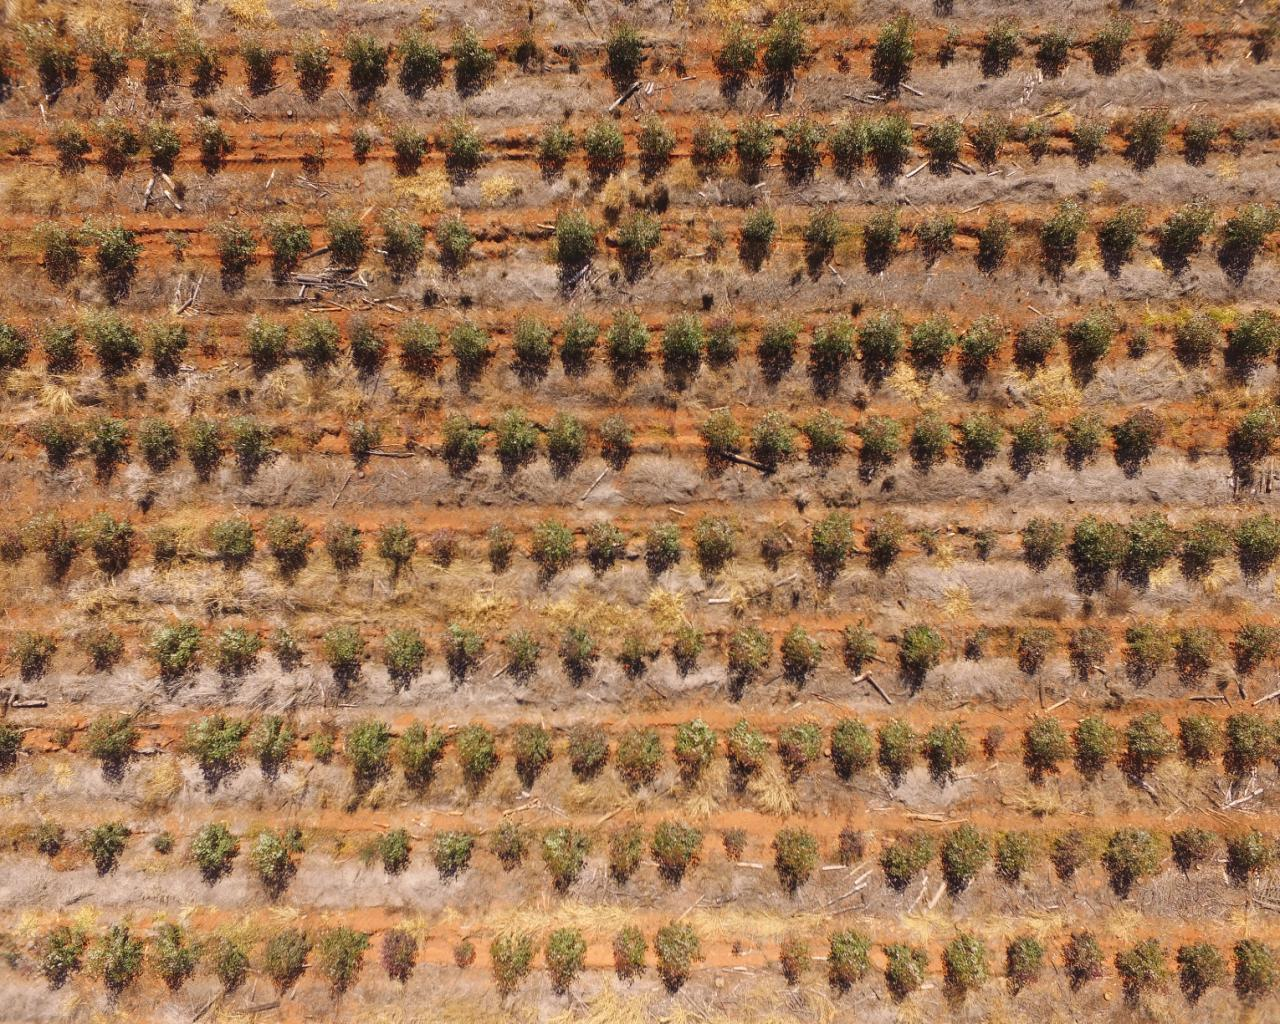Tree: (1118, 516, 1178, 591), (1219, 202, 1273, 283), (525, 108, 580, 181), (1112, 406, 1164, 481), (1227, 403, 1275, 484), (1163, 193, 1207, 275), (583, 114, 626, 193), (778, 112, 820, 192), (1008, 409, 1052, 484), (877, 829, 933, 886), (1181, 519, 1231, 583), (553, 209, 590, 293), (618, 219, 665, 286), (1237, 511, 1279, 585), (633, 109, 673, 186), (540, 930, 588, 994), (923, 113, 968, 181), (656, 926, 700, 993), (1176, 623, 1220, 688), (442, 121, 489, 183), (829, 109, 866, 185), (533, 520, 576, 587), (1101, 830, 1144, 897), (260, 926, 305, 990), (767, 11, 807, 84), (965, 113, 1014, 172), (1064, 408, 1104, 478), (942, 828, 992, 885), (802, 412, 845, 478), (317, 631, 374, 679), (859, 417, 901, 483), (651, 819, 698, 878), (942, 933, 985, 997), (740, 109, 774, 187), (874, 111, 910, 184), (181, 716, 234, 766), (458, 41, 503, 99), (345, 719, 392, 774), (690, 109, 730, 172), (828, 931, 870, 992), (540, 827, 585, 884), (960, 411, 1000, 475), (91, 321, 140, 373), (263, 522, 312, 575), (1134, 718, 1172, 784), (400, 41, 445, 97), (879, 721, 921, 782), (1227, 714, 1269, 774), (210, 519, 256, 574), (548, 419, 586, 483), (326, 931, 363, 998), (874, 14, 908, 84), (211, 222, 261, 270), (584, 523, 631, 575), (389, 123, 430, 181), (229, 425, 275, 476), (98, 931, 140, 986), (39, 931, 84, 982), (90, 720, 142, 764), (38, 224, 77, 281), (908, 411, 948, 468), (730, 631, 768, 692), (344, 43, 386, 97), (511, 315, 550, 373), (1119, 939, 1158, 998), (665, 319, 702, 378), (717, 18, 751, 83), (1126, 110, 1165, 167), (813, 319, 847, 382), (1069, 117, 1111, 169), (382, 212, 419, 272), (695, 517, 731, 577), (1233, 622, 1273, 676), (1128, 619, 1160, 686), (1068, 624, 1109, 676), (155, 930, 192, 986), (296, 38, 331, 97), (258, 720, 298, 773), (606, 24, 639, 87), (779, 632, 820, 683), (829, 724, 869, 775), (1028, 721, 1069, 772), (771, 833, 812, 884), (1013, 318, 1050, 373), (328, 212, 360, 276), (1181, 718, 1228, 762), (491, 938, 530, 992), (97, 515, 132, 575), (385, 634, 425, 684), (1091, 18, 1127, 73), (1183, 945, 1221, 997), (73, 634, 132, 669), (296, 317, 338, 365), (883, 940, 921, 994), (1237, 939, 1273, 995), (862, 317, 893, 379), (997, 825, 1030, 884), (96, 225, 136, 274), (645, 522, 681, 576), (728, 727, 763, 784), (984, 11, 1015, 75), (496, 411, 527, 474), (445, 415, 478, 474), (401, 311, 436, 367), (612, 928, 647, 983), (1005, 934, 1039, 991), (190, 423, 224, 479), (1016, 630, 1052, 680), (401, 727, 438, 777), (196, 827, 234, 875), (212, 942, 250, 991), (383, 927, 417, 980), (564, 312, 594, 373), (1072, 319, 1099, 383), (10, 630, 47, 678), (1077, 525, 1107, 584), (512, 729, 551, 774), (1080, 720, 1116, 768), (610, 829, 646, 877), (915, 318, 946, 373), (41, 326, 76, 373), (703, 415, 735, 468), (867, 518, 905, 562), (1235, 321, 1265, 375), (927, 727, 962, 773), (435, 223, 467, 273), (615, 318, 641, 382), (1055, 830, 1088, 880), (1100, 222, 1127, 281), (88, 822, 125, 865), (378, 523, 412, 572), (774, 937, 811, 981), (967, 319, 992, 382), (600, 419, 632, 468), (1045, 15, 1072, 73), (763, 320, 792, 374), (250, 321, 284, 367), (144, 421, 176, 471), (452, 323, 485, 371), (150, 326, 183, 374), (326, 525, 358, 573), (1024, 521, 1056, 569), (89, 419, 119, 470), (622, 730, 655, 776), (195, 122, 233, 163), (1049, 218, 1074, 278), (242, 47, 275, 93), (563, 631, 596, 677), (435, 832, 469, 875), (187, 50, 220, 94), (869, 205, 894, 263), (445, 631, 478, 676), (463, 734, 498, 774), (816, 516, 847, 562), (156, 631, 193, 668), (508, 633, 539, 677), (152, 527, 190, 562), (373, 834, 414, 867), (673, 626, 702, 672), (44, 522, 69, 576), (224, 632, 259, 670), (575, 727, 604, 772), (1025, 114, 1051, 164), (759, 417, 785, 467), (1182, 315, 1209, 363), (682, 731, 713, 774), (1234, 844, 1266, 884), (1187, 114, 1216, 158), (744, 208, 769, 259), (255, 835, 282, 882), (43, 49, 73, 91), (840, 630, 874, 668), (487, 526, 511, 577), (274, 222, 307, 258), (916, 213, 946, 255), (1072, 935, 1100, 978), (909, 626, 931, 680), (145, 129, 178, 165), (712, 315, 737, 362), (349, 419, 372, 470), (1174, 831, 1209, 864), (41, 423, 69, 464), (618, 639, 647, 677), (353, 323, 381, 362), (812, 205, 829, 270), (145, 51, 173, 89), (1153, 17, 1173, 67), (759, 534, 787, 571), (783, 727, 808, 768), (101, 125, 132, 159), (89, 54, 122, 85), (57, 126, 86, 162), (493, 827, 521, 861), (350, 125, 375, 164), (1198, 31, 1223, 70), (838, 829, 863, 864), (1, 536, 30, 566), (0, 727, 23, 764), (432, 537, 457, 569), (724, 828, 749, 859), (514, 38, 543, 64), (984, 721, 1005, 758), (1250, 25, 1273, 57), (962, 626, 983, 661), (988, 217, 1002, 265), (165, 230, 189, 256), (276, 636, 300, 662), (451, 946, 478, 970), (312, 738, 334, 766), (152, 832, 173, 859), (945, 26, 957, 66), (49, 727, 74, 746), (41, 832, 59, 858), (1130, 331, 1146, 357), (708, 223, 725, 247), (979, 535, 993, 562), (922, 532, 936, 555), (836, 49, 847, 75), (730, 940, 744, 956)
